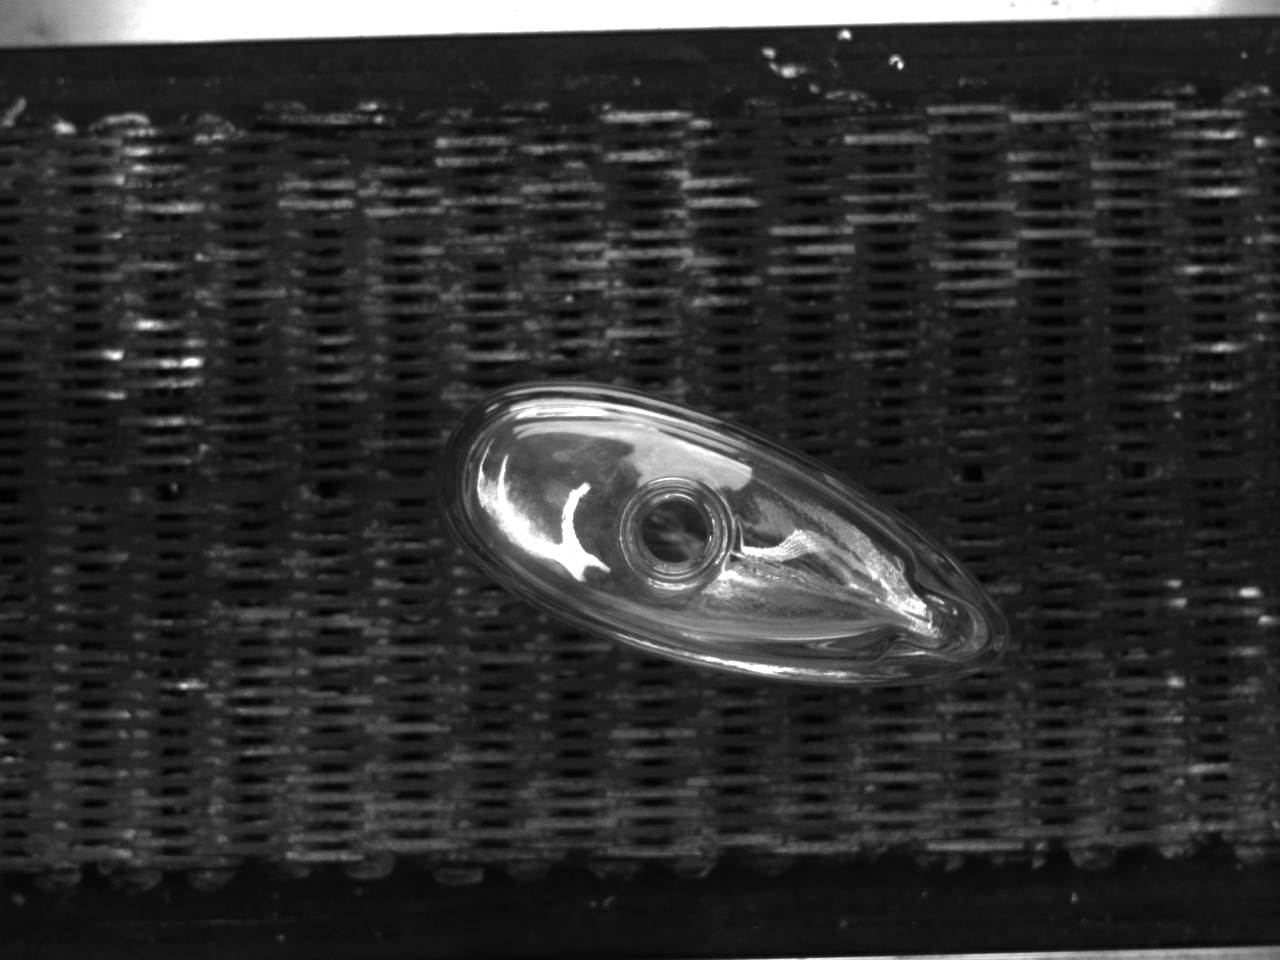bottleneck: (619, 476, 732, 586)
